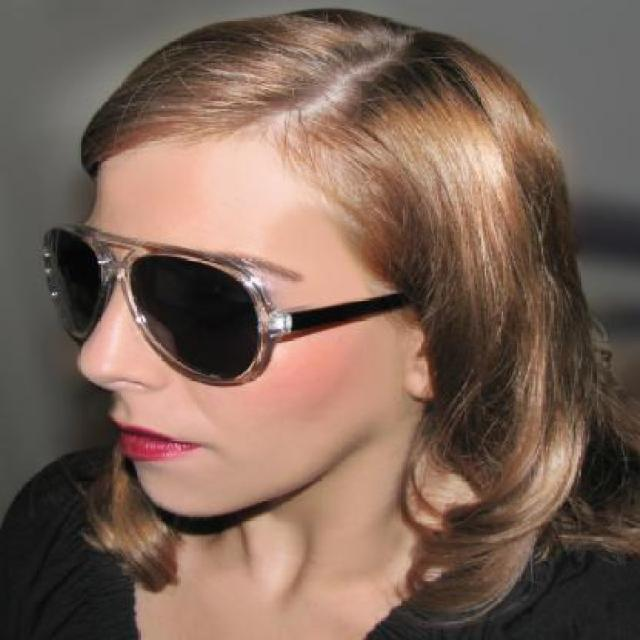face_nomask: (48, 223, 334, 514)
glasses: (31, 209, 442, 386)
head_nohelmet: (70, 0, 462, 197)
